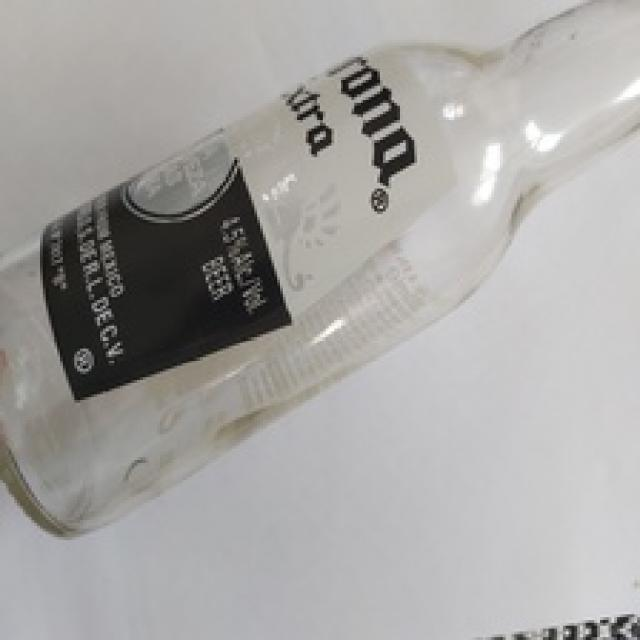glass-bottle: (1, 1, 640, 538)
